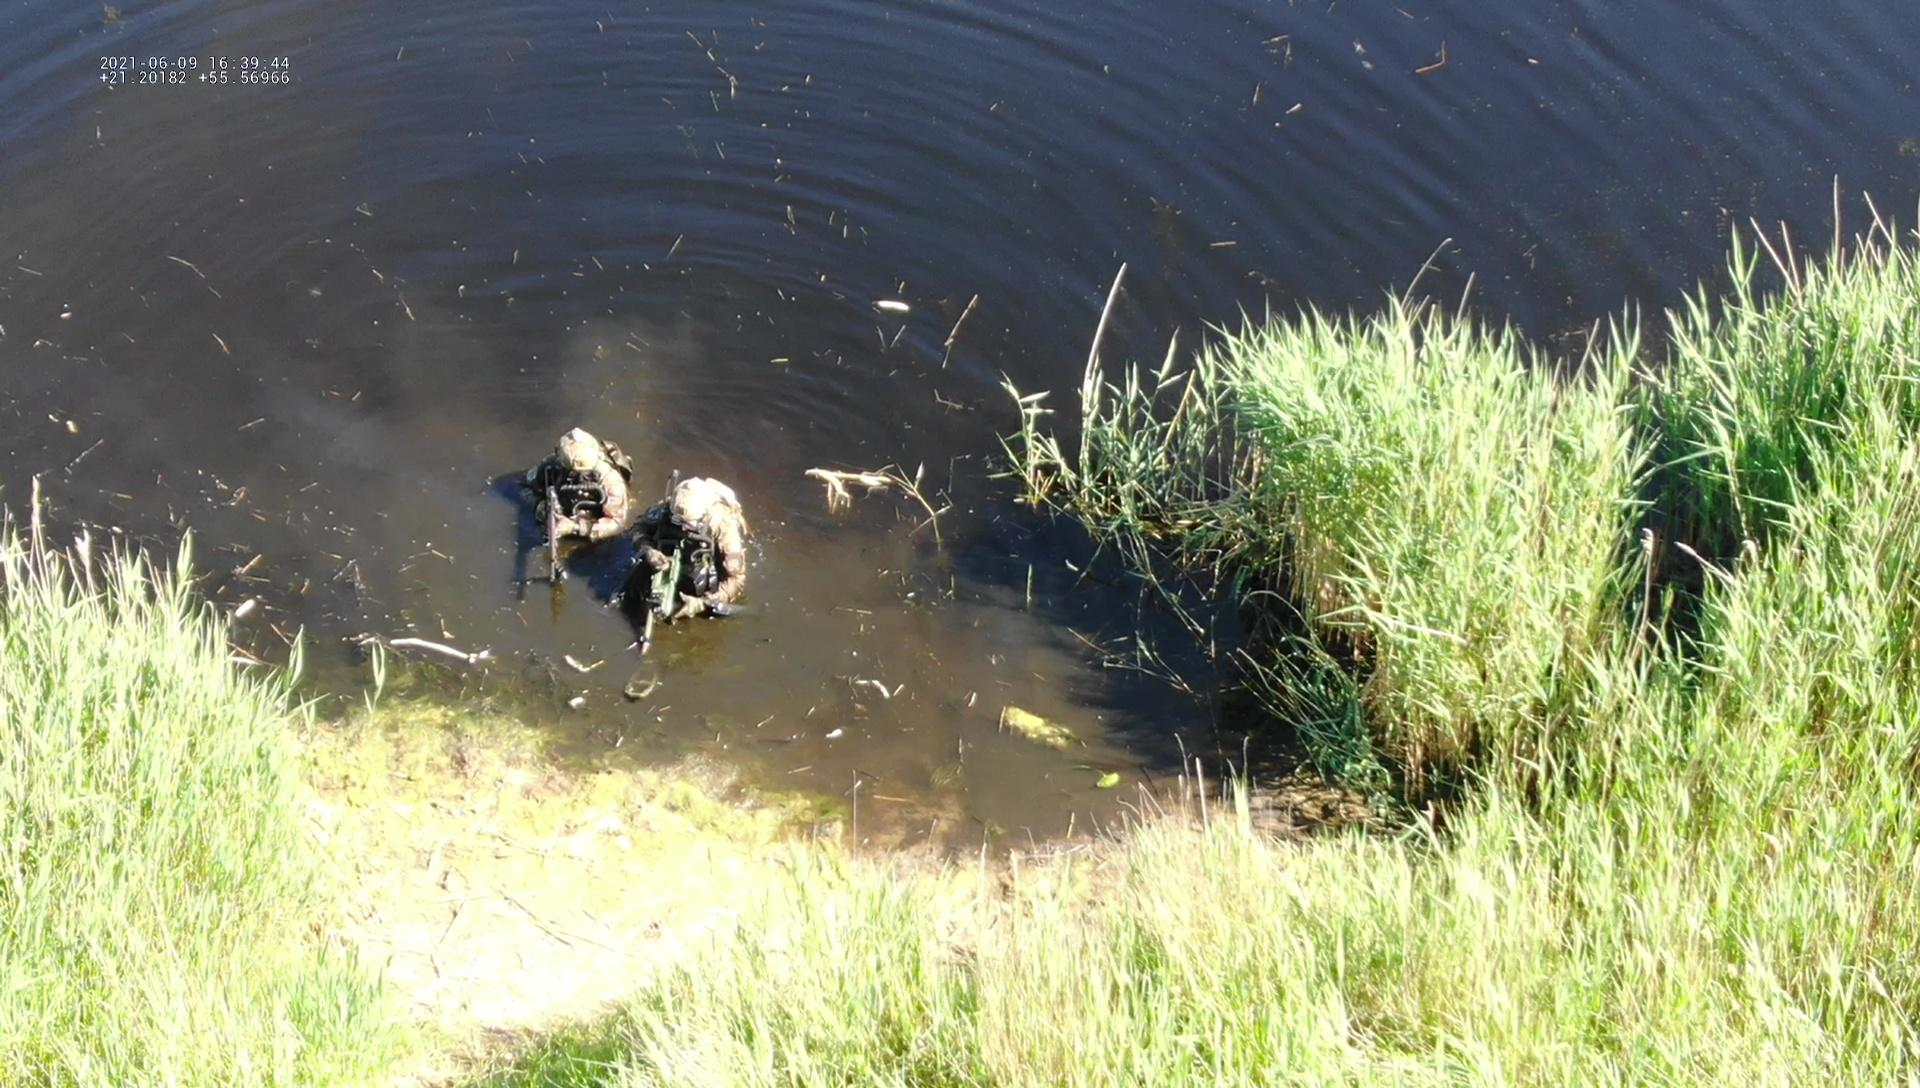Soldier: (630, 468, 752, 654), (524, 425, 632, 591)
